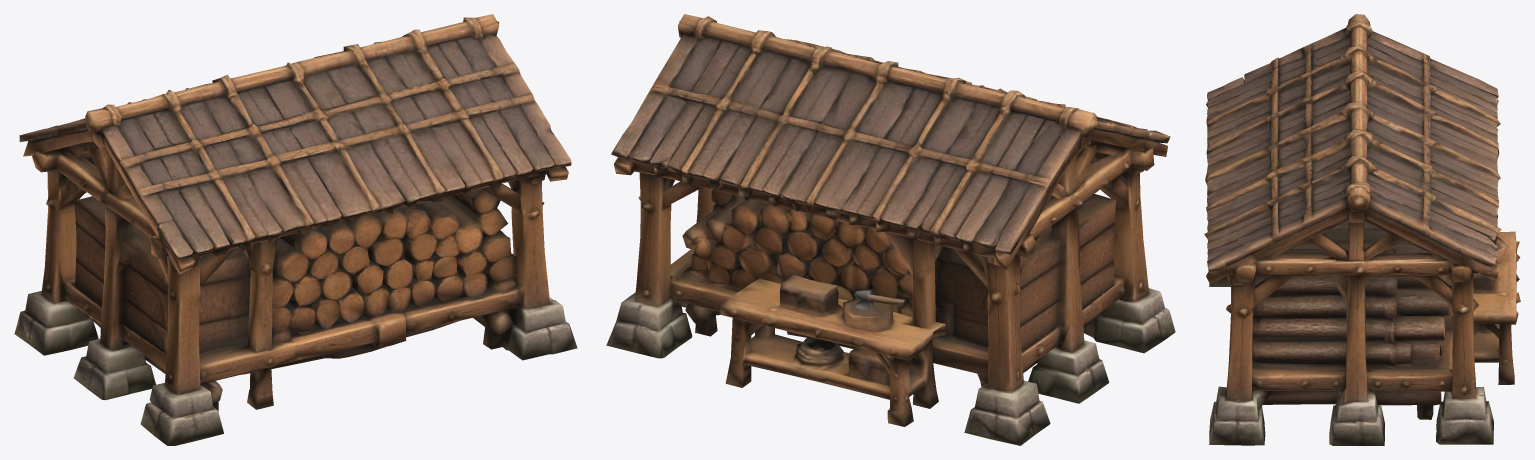
File: odunluk-sv5.glb
3 views of the same model, side by side, from view 1: azimuth 30°, elevation 25°; view 2: azimuth 150°, elevation 25°; view 3: azimuth 270°, elevation 25° (orthographic). The views are drawn at different scales.
Parts seen in each view (by area): view 1: tripo_node_d8df8062-322e-4e7a-bc49-099207151d6f; view 2: tripo_node_d8df8062-322e-4e7a-bc49-099207151d6f; view 3: tripo_node_d8df8062-322e-4e7a-bc49-099207151d6f.
Part boxes in pixels (x1,y1,x2,y2): tripo_node_d8df8062-322e-4e7a-bc49-099207151d6f: [14, 14, 577, 445]; tripo_node_d8df8062-322e-4e7a-bc49-099207151d6f: [606, 14, 1175, 445]; tripo_node_d8df8062-322e-4e7a-bc49-099207151d6f: [1204, 14, 1520, 445].
Size of the model in its own units: 1 by 0.6443 by 0.7283.
Materials: 1 (1 with a texture image).
